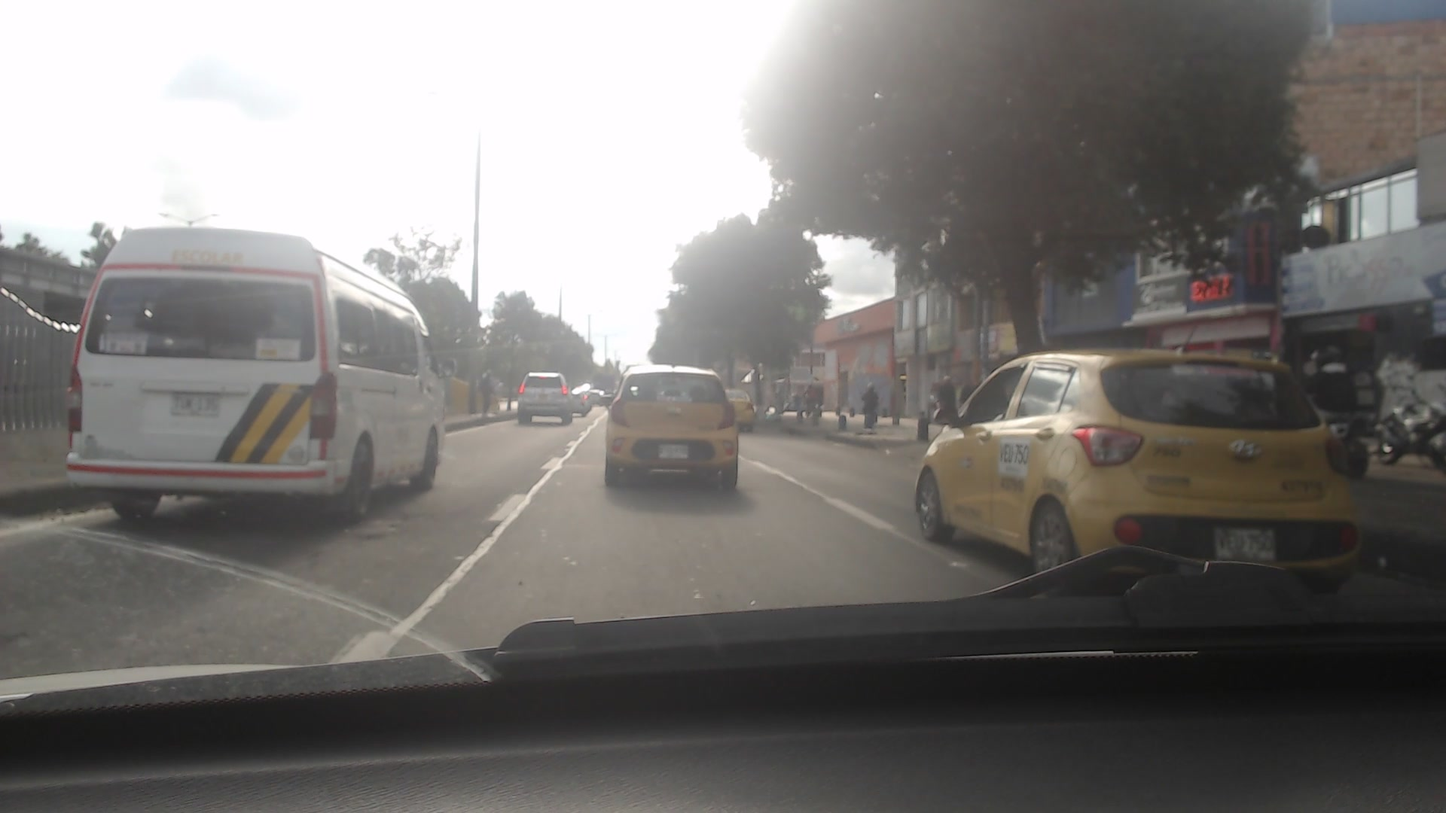bus: (72, 214, 456, 524)
car: (910, 347, 1365, 599), (604, 363, 740, 486), (509, 368, 576, 430)
person: (861, 381, 880, 416)
